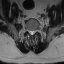CCS_normal: (31, 29, 32, 37)
LFS_normal: (35, 27, 37, 34)
LLS_normal: (32, 29, 34, 35)
RFS_normal: (27, 27, 29, 34)
RLS_normal: (29, 28, 31, 35)
